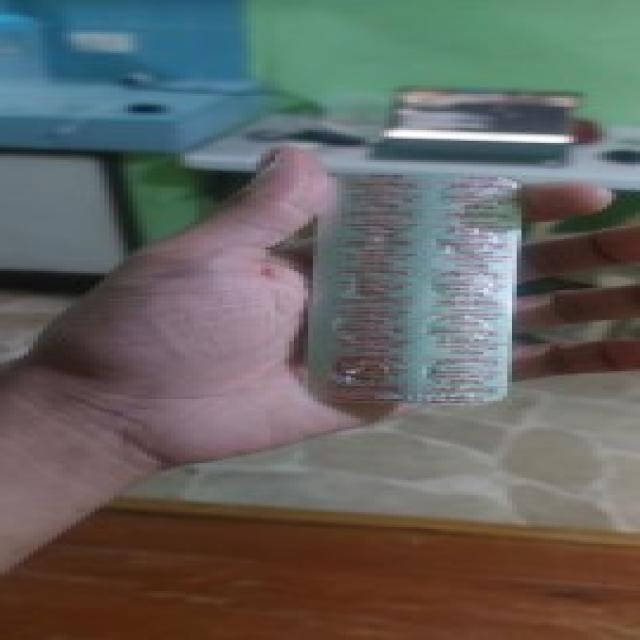Cacat: (316, 168, 514, 406)
